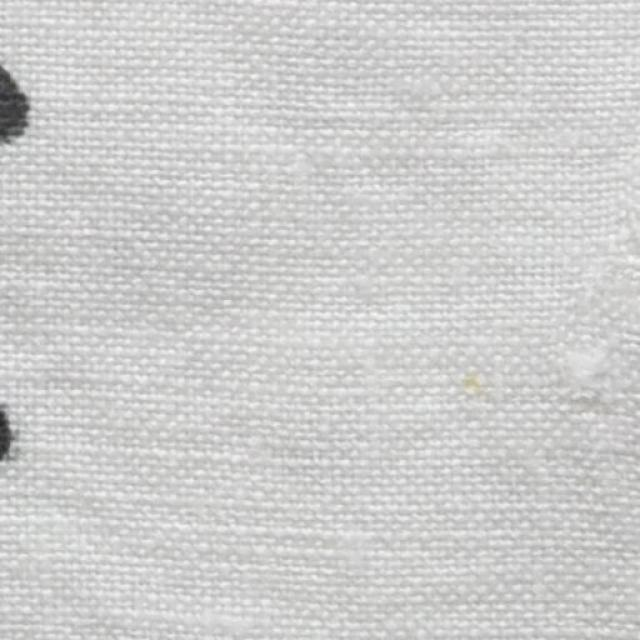Knot: (555, 347, 621, 404)
Stain: (0, 66, 29, 142), (1, 410, 11, 461)
